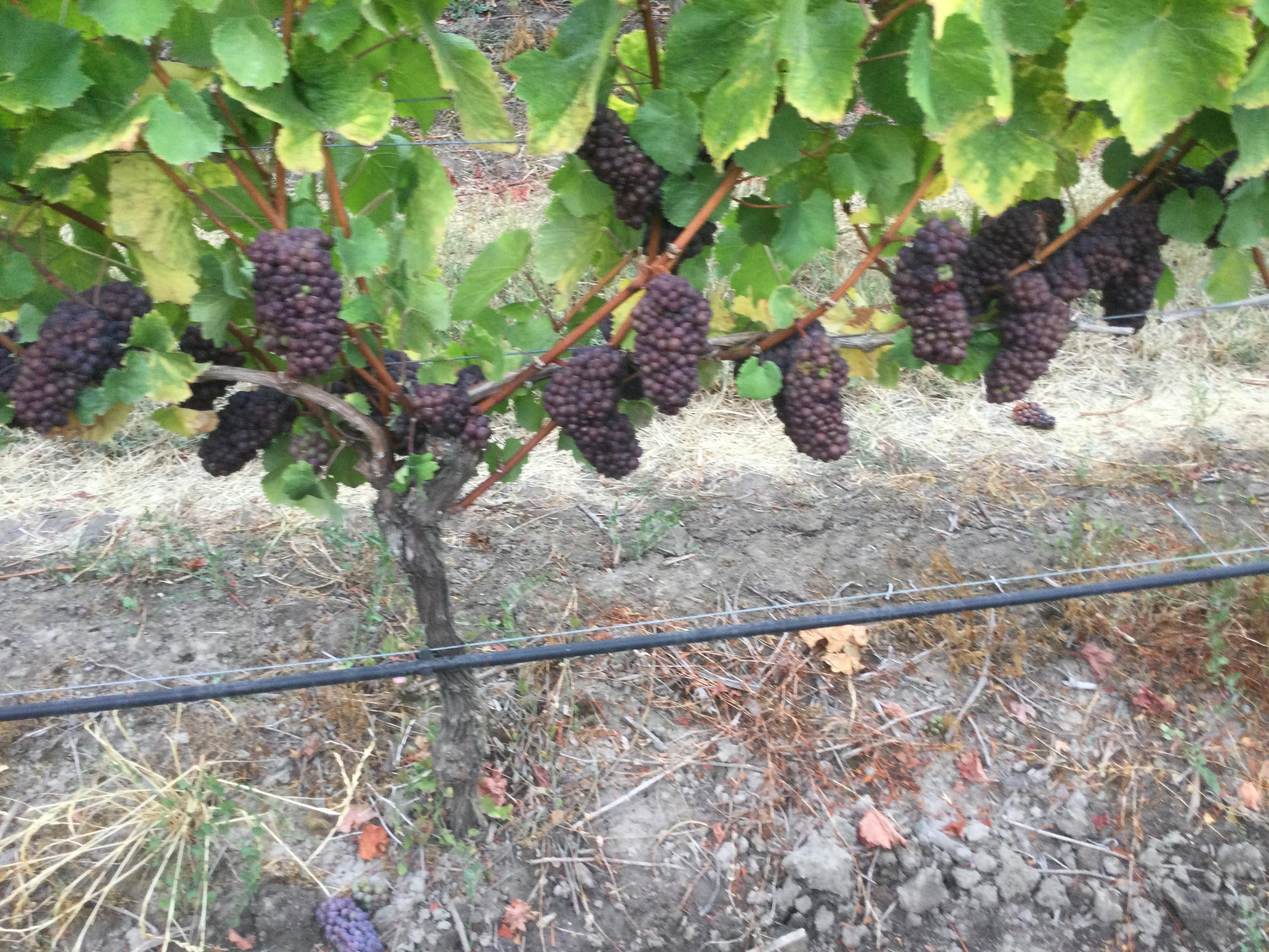leaf: (665, 0, 865, 161), (1065, 0, 1253, 152), (942, 63, 1067, 213), (665, 0, 780, 161), (506, 0, 623, 154), (23, 37, 155, 168), (108, 156, 199, 303), (424, 23, 517, 151), (398, 148, 456, 348), (944, 110, 1056, 213), (776, 0, 867, 122), (701, 17, 778, 161), (907, 11, 997, 133), (292, 39, 392, 144), (0, 5, 90, 113), (664, 0, 769, 92), (827, 124, 916, 211), (858, 10, 923, 126), (451, 229, 531, 320), (534, 198, 607, 291), (146, 79, 222, 164), (220, 68, 320, 128), (629, 89, 700, 173), (386, 40, 447, 133), (212, 14, 287, 89), (771, 183, 836, 268), (734, 103, 808, 176), (984, 0, 1066, 53), (79, 0, 179, 42), (124, 350, 204, 402), (662, 162, 723, 226), (549, 155, 612, 216), (131, 247, 198, 304), (1158, 186, 1224, 243), (400, 278, 450, 350), (1218, 177, 1268, 247), (47, 402, 132, 443), (729, 245, 789, 299), (460, 307, 505, 379), (335, 216, 388, 277), (939, 329, 1000, 382), (164, 6, 216, 67), (301, 0, 362, 52), (1227, 106, 1268, 179), (1202, 247, 1252, 303), (501, 304, 557, 352), (274, 126, 324, 173), (1100, 136, 1145, 188), (1232, 46, 1268, 107), (734, 356, 782, 399), (149, 406, 217, 436), (127, 311, 176, 352), (0, 246, 38, 298), (390, 453, 439, 493), (768, 284, 806, 328), (616, 30, 650, 79), (886, 327, 925, 368), (280, 461, 320, 500), (485, 436, 522, 474), (512, 391, 547, 431), (15, 302, 46, 344), (339, 295, 382, 324), (618, 399, 656, 429), (1155, 266, 1176, 308), (499, 458, 524, 482), (0, 394, 14, 426), (710, 198, 729, 220), (738, 158, 764, 174), (1250, 0, 1268, 23), (290, 208, 298, 226), (625, 86, 631, 94), (526, 426, 536, 429), (857, 123, 862, 128), (729, 0, 736, 2), (692, 4, 697, 6), (622, 77, 624, 79), (653, 156, 654, 158), (538, 424, 540, 425), (839, 52, 840, 54), (659, 50, 659, 54), (362, 219, 365, 219), (94, 388, 95, 388), (689, 8, 690, 8)
